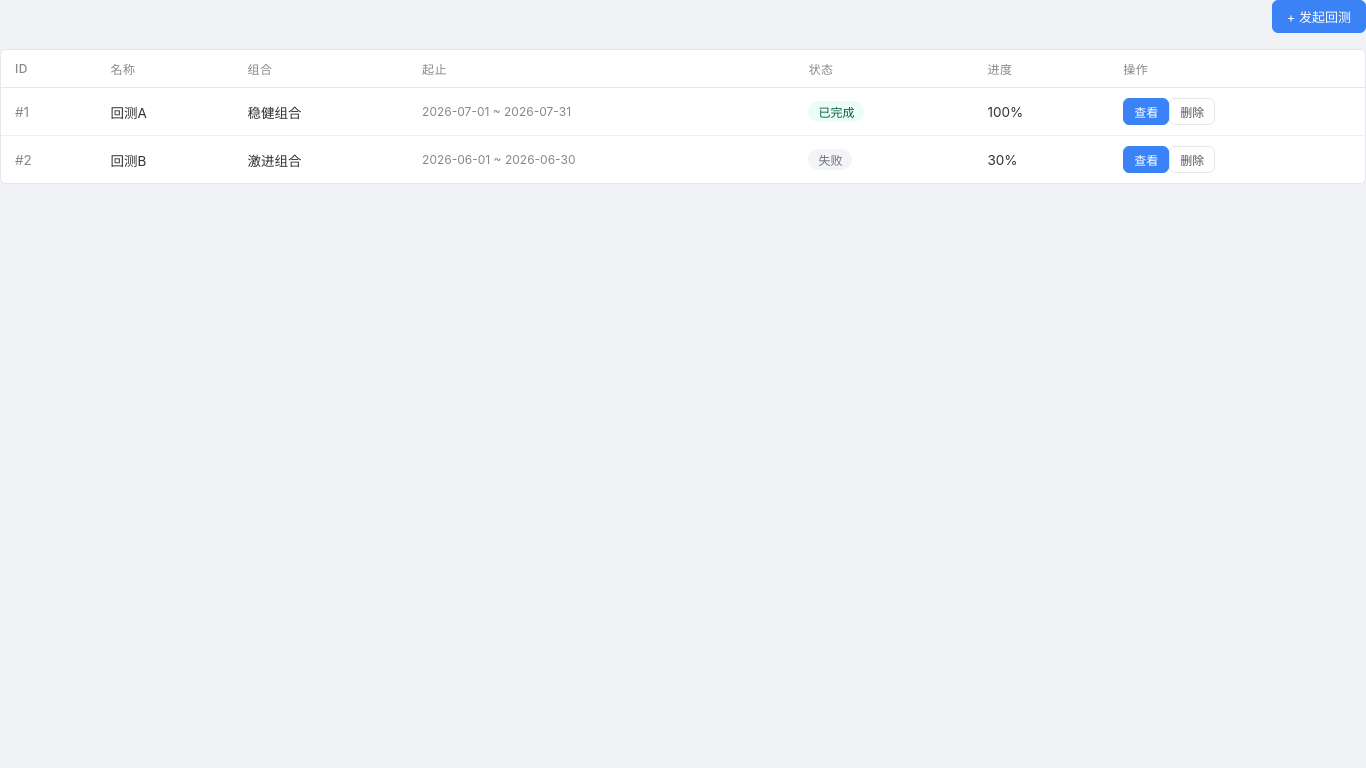
Test: Backtest.vue — 详情视图 › 点[查看] → 切换详情，调 getBacktestDetail，显示指标卡/曲线/交易表
Step 1. Click the button "查看" in the row of "#1" → click(1146, 112), box [1123,98,1169,125]
(page scrolled)
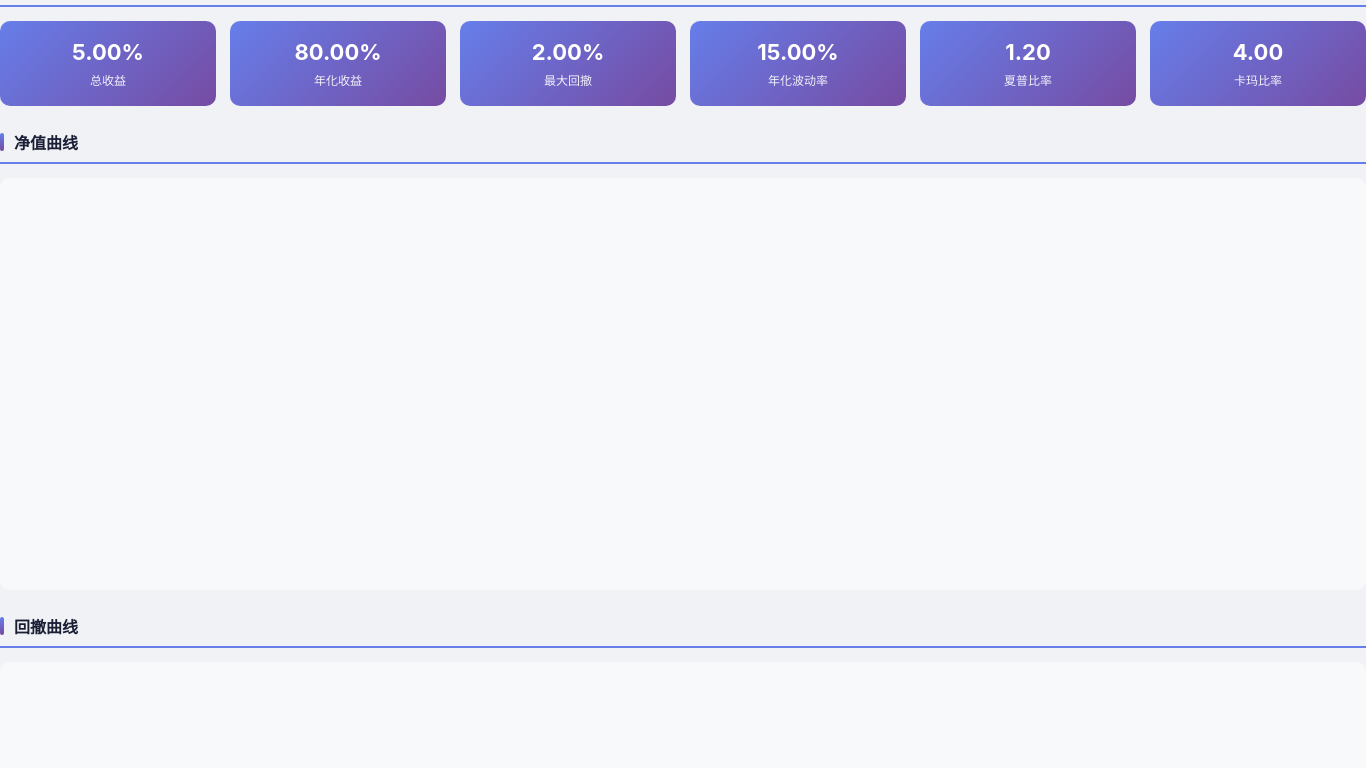
expect the text "总收益" is shown: met, box [90,73,126,88]
expect the text "最大回撤" is shown: met, box [544,73,592,88]
expect the text "夏普" is shown: met, box [1004,73,1052,88]
